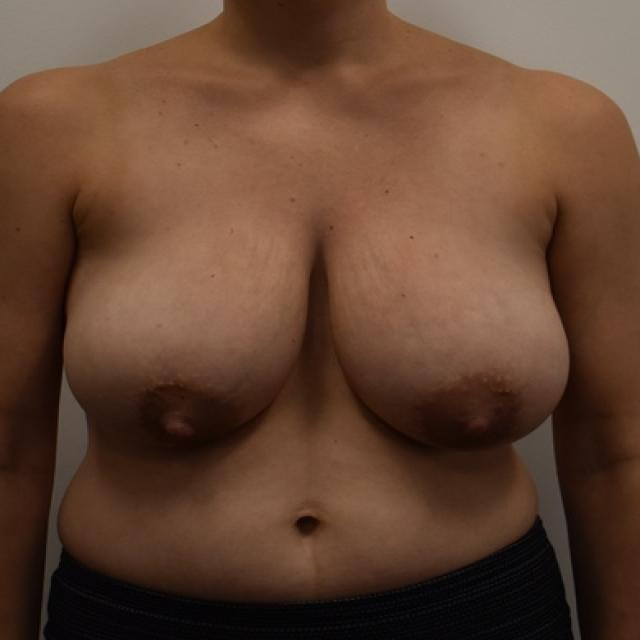Seno ileso: (56, 226, 316, 472), (320, 226, 578, 472)
